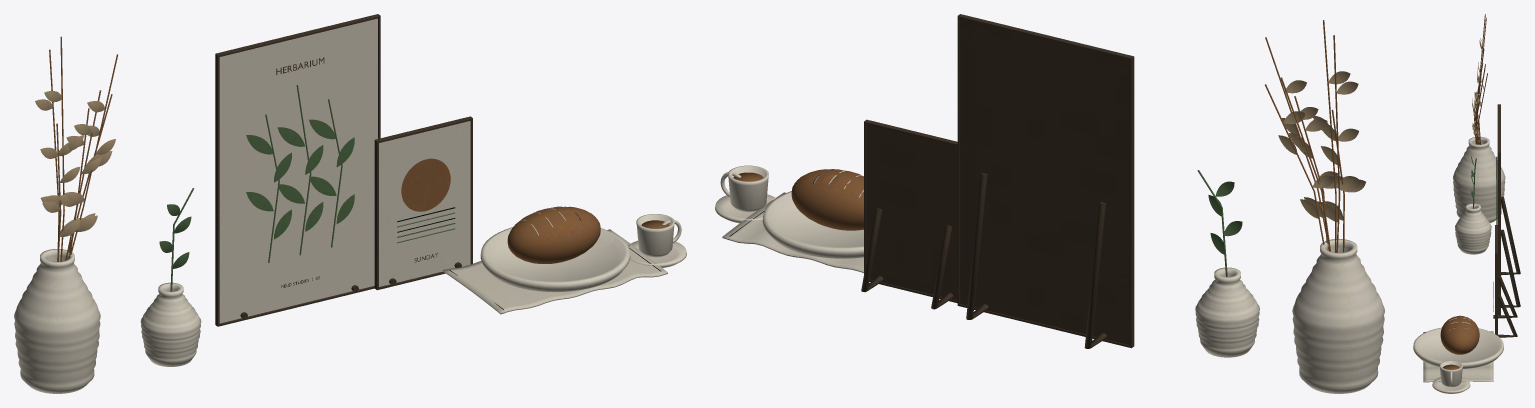
Rendered from atelier_decor_goldenhour.glb.
3 renders of one model, left to right at view 1: azimuth 30°, elevation 25°; view 2: azimuth 150°, elevation 25°; view 3: azimuth 270°, elevation 25°, orthographic. The views are drawn at different scales.
Visible parts, largest first — view 1: Collection goldenhour authored display; view 2: Collection goldenhour authored display; view 3: Collection goldenhour authored display.
Boxes of the visible parts, x1,y1,x2,y2 form: Collection goldenhour authored display: (14,14,686,393); Collection goldenhour authored display: (715,14,1384,393); Collection goldenhour authored display: (1413,14,1520,393).
Size of the model in its own units: 1.53 by 0.773 by 0.3669.
Materials: 6 (6 with a texture image).
